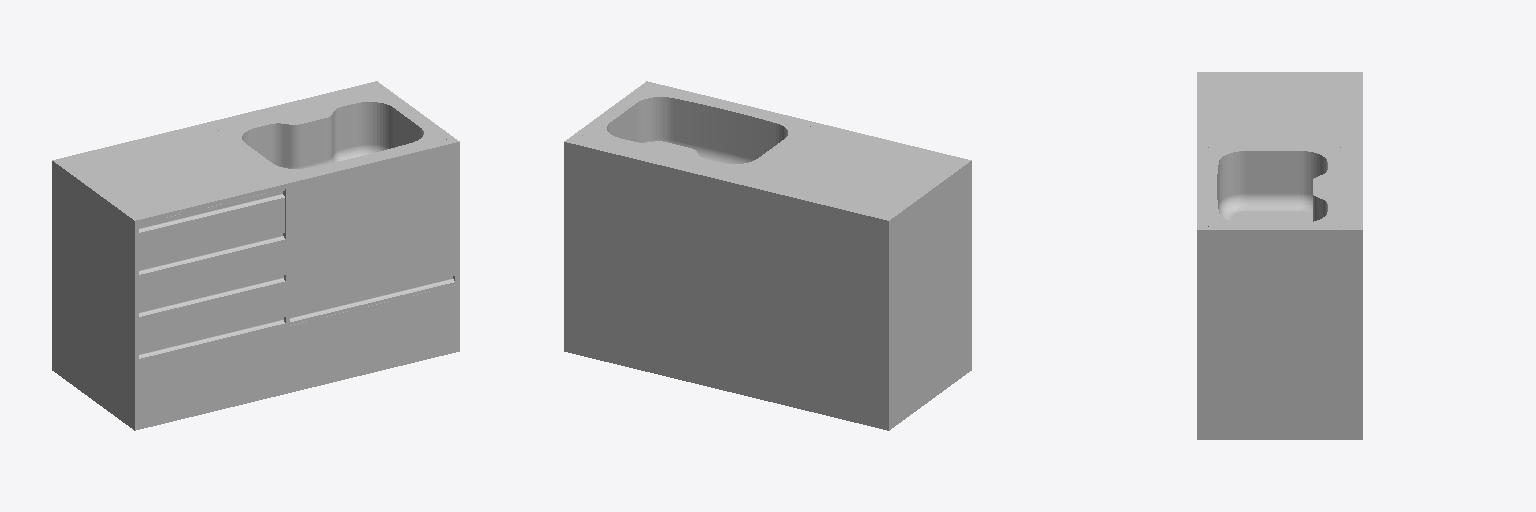
Rendered from counter1.obj.
3 renders of one model, left to right at view 1: azimuth 30°, elevation 25°; view 2: azimuth 150°, elevation 25°; view 3: azimuth 270°, elevation 25°, orthographic.
Parts seen in each view (by area): view 1: Group_036, Group_031, Group_004, Group_029, cuba_cozinha_001, Group_030, Group_023, Group_005, Group_011, Group_017, Puxador_005, Puxador_003 (+7 smaller); view 2: Group_035, Group_003, Group_031, Group_004, cuba_cozinha_001; view 3: Group_032, Group_031, cuba_cozinha_001, Group_035, Group_033.
Part boxes in pixels (bbox=[...]): Group_036: bbox=[290, 147, 454, 313]; Group_031: bbox=[52, 81, 459, 224]; Group_004: bbox=[55, 167, 138, 430]; Group_029: bbox=[290, 284, 455, 387]; cuba_cozinha_001: bbox=[219, 91, 445, 178]; Group_030: bbox=[139, 357, 285, 429]; Group_023: bbox=[139, 325, 285, 391]; Group_005: bbox=[139, 241, 285, 307]; Group_011: bbox=[139, 283, 285, 349]; Group_017: bbox=[139, 199, 284, 265]; Puxador_005: bbox=[290, 274, 455, 323]; Puxador_003: bbox=[139, 189, 284, 234]; Group_035: bbox=[564, 146, 737, 393]; Group_003: bbox=[738, 189, 891, 430]; Group_031: bbox=[564, 81, 971, 224]; Group_004: bbox=[892, 165, 971, 427]; cuba_cozinha_001: bbox=[583, 87, 810, 174]; Group_032: bbox=[1197, 235, 1357, 435]; Group_031: bbox=[1197, 72, 1362, 234]; cuba_cozinha_001: bbox=[1208, 147, 1340, 226]; Group_035: bbox=[1358, 235, 1362, 439]; Group_033: bbox=[1197, 436, 1357, 439].
Bounding box in the file's own units: 53.76 × 33.19 × 23.74.